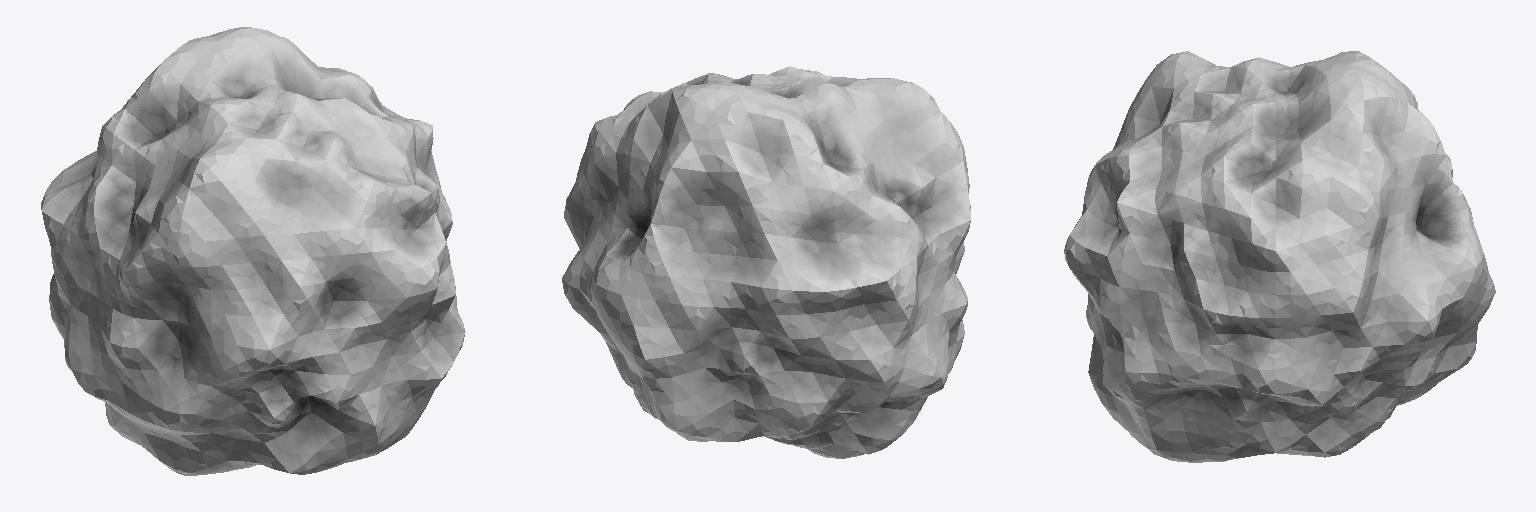
3 renders of one model, left to right at view 1: azimuth 30°, elevation 25°; view 2: azimuth 150°, elevation 25°; view 3: azimuth 270°, elevation 25°, orthographic.
Visible parts, largest first — view 1: Icosphere; view 2: Icosphere; view 3: Icosphere.
Boxes of the visible parts, x1,y1,x2,y2 form: Icosphere: [41, 27, 465, 475]; Icosphere: [562, 66, 970, 458]; Icosphere: [1064, 51, 1495, 462].
Size of the model in its own units: 0.4899 by 0.5003 by 0.5113.
1 materials, 1 textured.